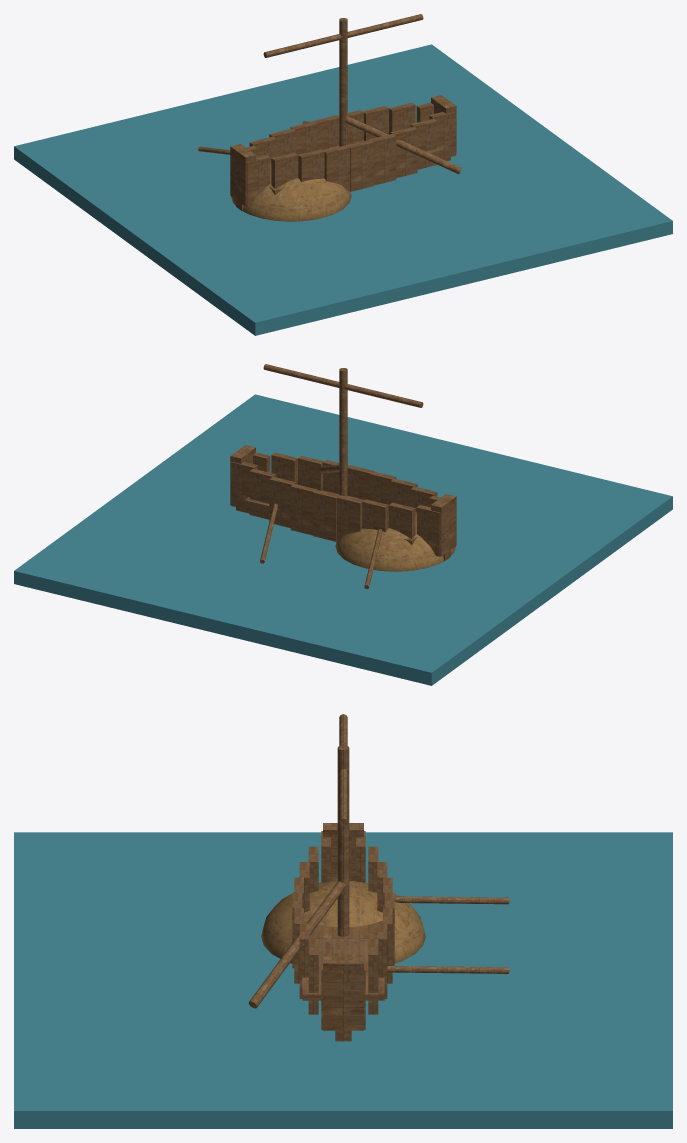
File: naufragio.glb
The picture shows the model from 3 angles, top to bottom: view 1: azimuth 30°, elevation 25°; view 2: azimuth 150°, elevation 25°; view 3: azimuth 270°, elevation 25°; orthographic projection. The views are drawn at different scales.
Visible parts, largest first — view 1: Base ilustrativa, Rochedo, Costado.014, Costado.013, Mastro, Extremidade, Verga, Costado.012, Costado.009, Costado.015, Costado.017, Verga quebrada (+8 smaller); view 2: Base ilustrativa, Rochedo, Costado.005, Costado.004, Mastro, Extremidade, Verga, Costado.006, Costado.003, Costado, Costado.007, Costado.008 (+7 smaller); view 3: Base ilustrativa, Rochedo, Extremidade.001, Convés, Mastro, Verga quebrada, Extremidade, Remo.001, Remo, Verga, Costado.007, Costado.016 (+2 smaller).
Boxes of the visible parts, bbox=[...] form: Base ilustrativa: bbox=[14, 44, 672, 335]; Rochedo: bbox=[231, 162, 351, 221]; Costado.014: bbox=[369, 133, 396, 185]; Costado.013: bbox=[347, 140, 373, 191]; Mastro: bbox=[339, 18, 347, 146]; Extremidade: bbox=[230, 144, 255, 206]; Verga: bbox=[263, 14, 423, 57]; Costado.012: bbox=[323, 145, 349, 191]; Costado.009: bbox=[246, 155, 270, 206]; Costado.015: bbox=[390, 126, 417, 177]; Costado.017: bbox=[429, 111, 455, 158]; Verga quebrada: bbox=[345, 116, 461, 174]; Base ilustrativa: bbox=[14, 394, 672, 685]; Rochedo: bbox=[335, 512, 455, 571]; Costado.005: bbox=[290, 483, 317, 535]; Costado.004: bbox=[313, 490, 339, 541]; Mastro: bbox=[339, 368, 347, 496]; Extremidade: bbox=[431, 494, 456, 556]; Verga: bbox=[263, 364, 423, 407]; Costado.006: bbox=[269, 476, 296, 527]; Costado.003: bbox=[337, 495, 363, 541]; Costado: bbox=[416, 505, 440, 556]; Costado.007: bbox=[249, 468, 276, 519]; Costado.008: bbox=[231, 461, 257, 510]; Base ilustrativa: bbox=[14, 832, 672, 1128]; Rochedo: bbox=[261, 881, 425, 963]; Extremidade.001: bbox=[323, 956, 363, 1030]; Convés: bbox=[302, 920, 384, 1000]; Mastro: bbox=[337, 745, 349, 936]; Verga quebrada: bbox=[248, 881, 345, 1008]; Extremidade: bbox=[323, 823, 363, 881]; Remo.001: bbox=[387, 966, 509, 973]; Remo: bbox=[394, 896, 509, 904]; Verga: bbox=[339, 714, 347, 825]; Costado.007: bbox=[368, 939, 378, 1014]; Costado.016: bbox=[308, 939, 318, 1014].
Bounding box in the file's own units: 8 × 3.6 × 8.
Materials: 3 (2 with a texture image).
